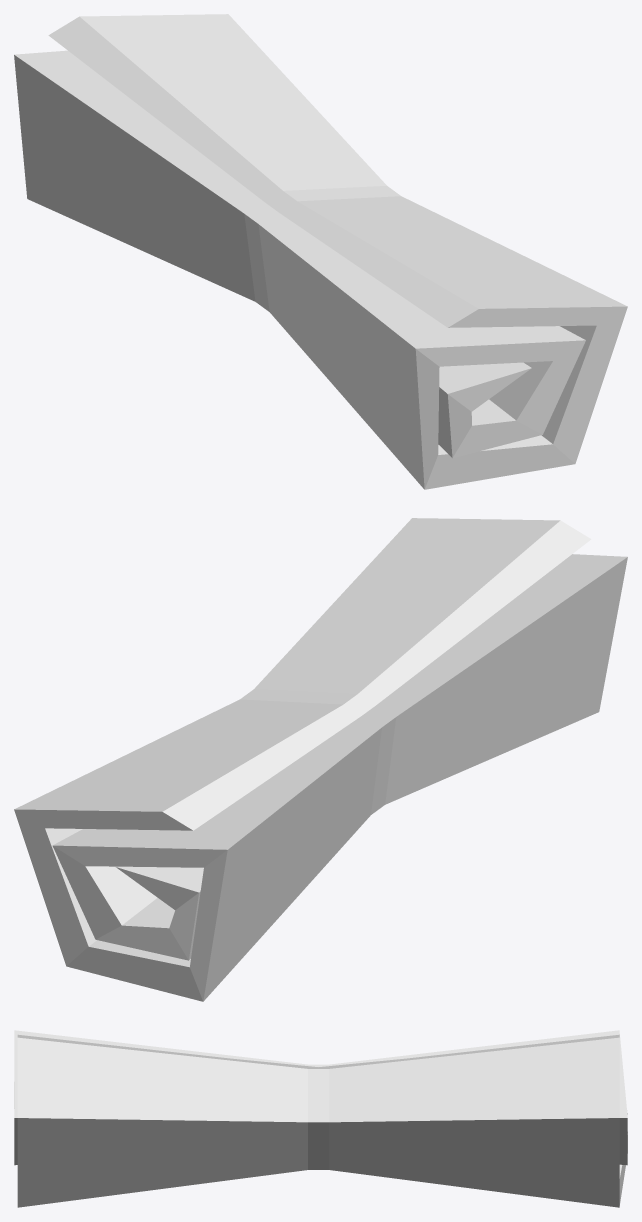
The model's file is paper02.gltf.
The picture shows the model from 3 angles, top to bottom: view 1: azimuth 30°, elevation 25°; view 2: azimuth 150°, elevation 25°; view 3: azimuth 270°, elevation 25°; orthographic projection. The views are drawn at different scales.
Visible parts, largest first — view 1: Cube; view 2: Cube; view 3: Cube.
Boxes of the visible parts, x1=… form: Cube: x1=14, y1=14, x2=627, y2=489; Cube: x1=14, y1=518, x2=627, y2=1001; Cube: x1=14, y1=1030, x2=627, y2=1207.
Bounding box in the file's own units: 0.0468 × 0.0373 × 0.1541.
Materials: 1 (1 with a texture image).
